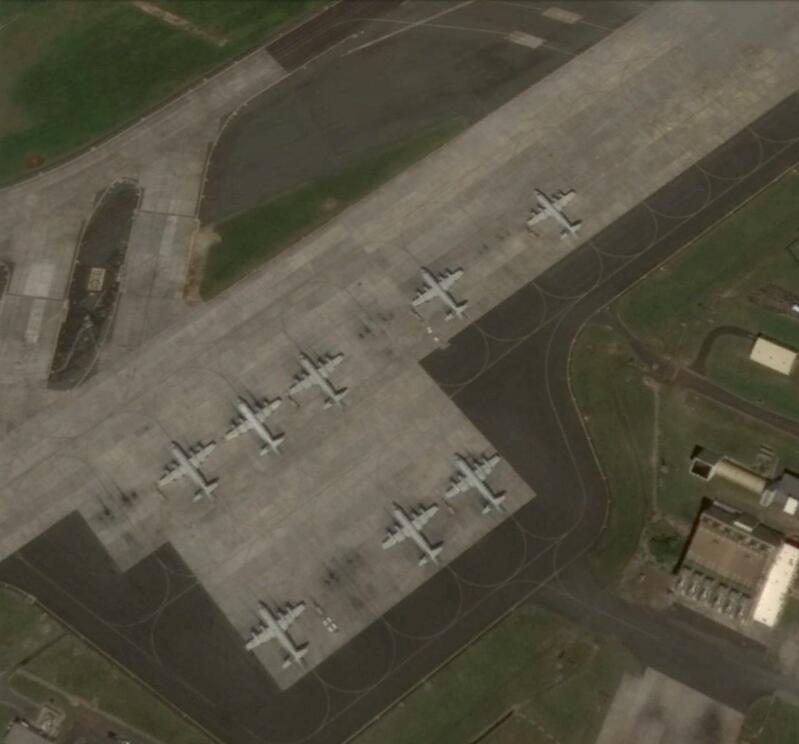A9: (379, 499, 446, 571), (244, 600, 311, 670), (159, 441, 222, 504), (443, 452, 505, 516), (289, 352, 352, 412), (223, 398, 285, 456), (412, 267, 472, 324), (523, 190, 589, 239)
